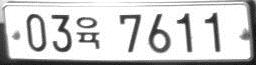0: (25, 12, 47, 52)
1: (201, 10, 223, 54), (173, 11, 196, 53)
3: (50, 13, 72, 52)
6: (147, 12, 171, 53)
7: (118, 12, 142, 53)
육: (75, 15, 101, 51)
